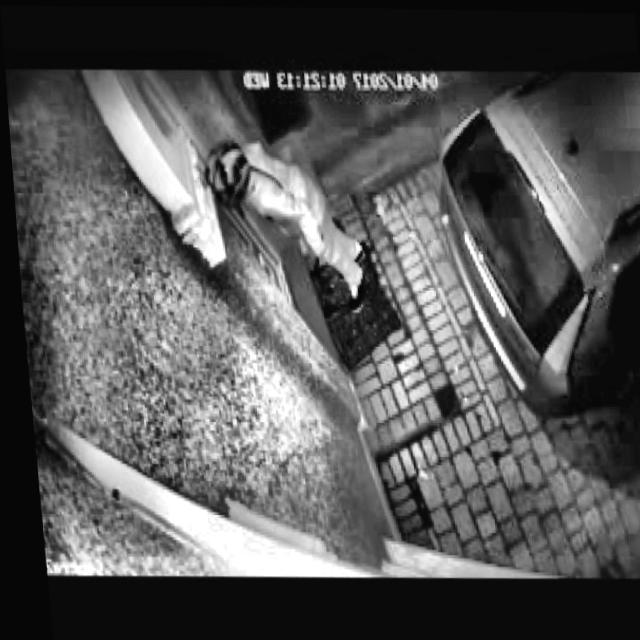Weapon: (206, 117, 421, 320)
